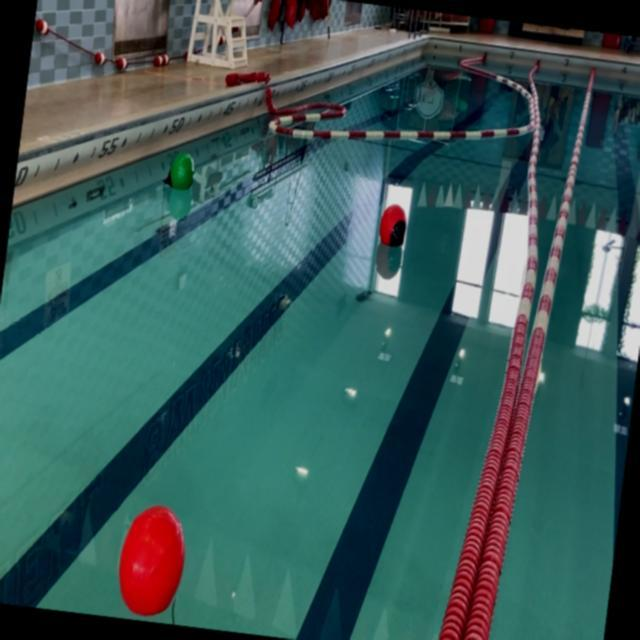buoy: (114, 500, 190, 619), (376, 201, 410, 250), (162, 149, 198, 194)
